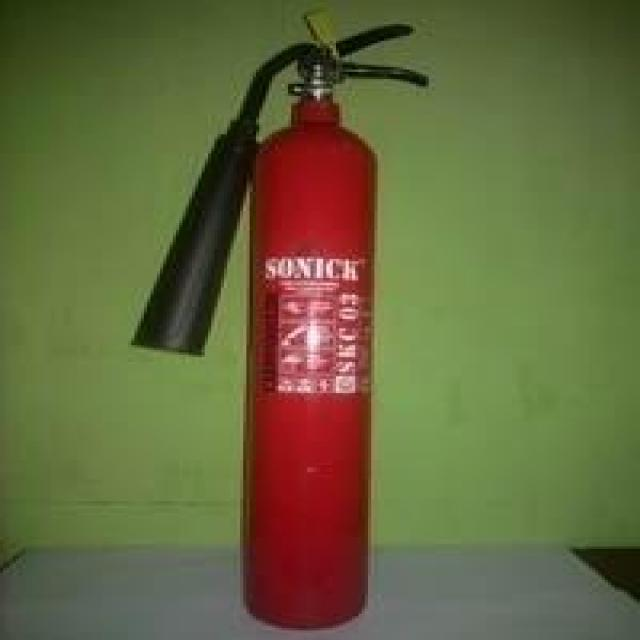fire_extinguisher: (120, 4, 443, 632)
